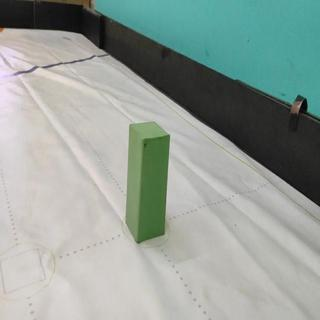greenbox: (125, 119, 173, 244)
